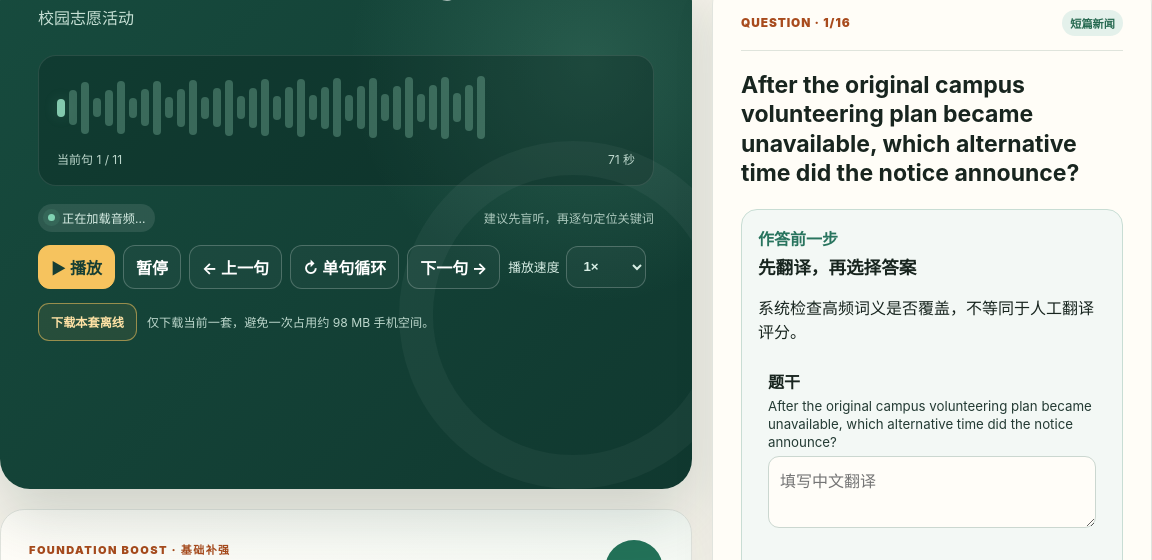
ListeningPage › downloads only the current listening set for offline use and reports completion
The image size is (1152, 560).
(page scrolled)
Click the button "下载本套离线".
click(87, 322)  # box [38,303,137,341]
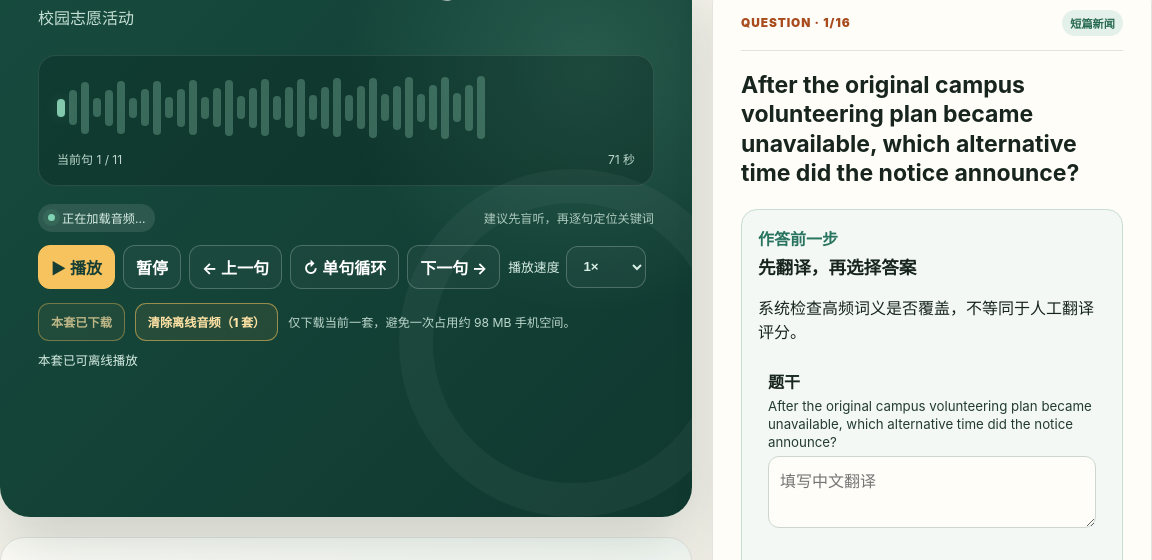
Expected: the text "本套已可离线播放" is shown, [38,353,138,368]
